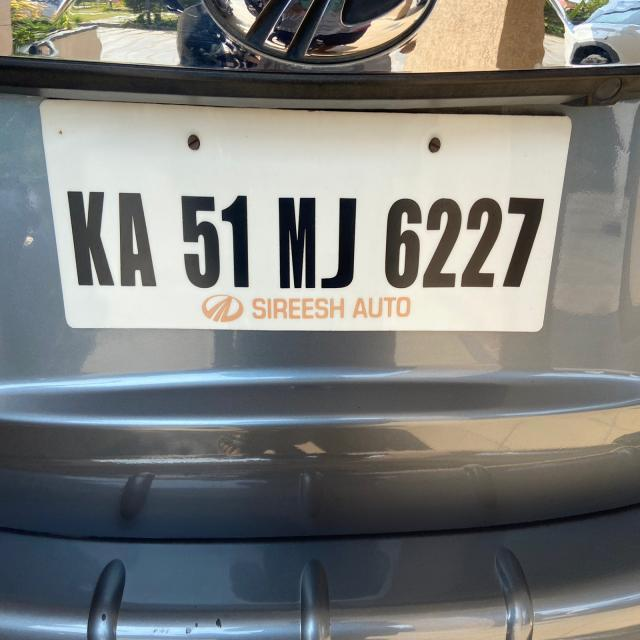1: (222, 185, 257, 294)
5: (177, 182, 222, 290)
6: (382, 186, 421, 296)
7: (504, 188, 545, 300)
A: (114, 180, 158, 295)
J: (319, 185, 361, 292)
K: (63, 178, 114, 296)
M: (271, 185, 318, 294)
